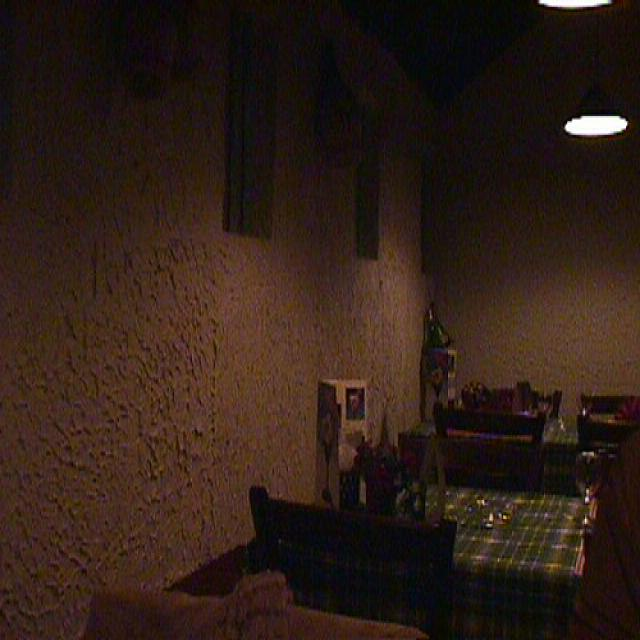Table: (345, 469, 623, 640)
chair: (221, 488, 469, 612), (404, 396, 556, 504), (500, 341, 590, 421), (574, 368, 640, 475)
